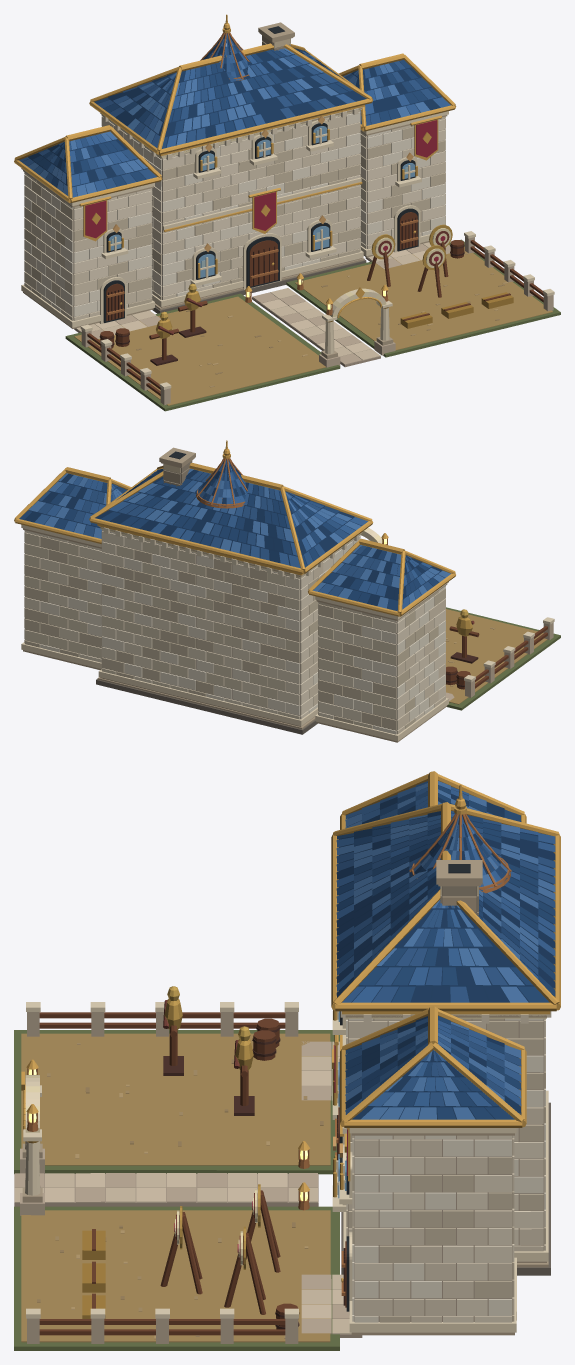
The model's file is barracks-nivel-9.glb.
3 renders of one model, top to bottom at view 1: azimuth 30°, elevation 25°; view 2: azimuth 150°, elevation 25°; view 3: azimuth 270°, elevation 25°, orthographic. The views are drawn at different scales.
Parts seen in each view (by area): view 1: Academia da Coroa #ad8f5a, Academia da Coroa #e8dcc5, Academia da Coroa #ded1b9, Academia da Coroa #eae1ce, Academia da Coroa #d5a452, Academia da Coroa #e6d7ba, Academia da Coroa #cec1a8, Academia da Coroa #1b385b, Academia da Coroa #70432c, Academia da Coroa #4670a0, Academia da Coroa #234771, Academia da Coroa #2e5481 (+16 smaller); view 2: Academia da Coroa #ded1b9, Academia da Coroa #e8dcc5, Academia da Coroa #cec1a8, Academia da Coroa #eae1ce, Academia da Coroa #1b385b, Academia da Coroa #d5a452, Academia da Coroa #4670a0, Academia da Coroa #234771, Academia da Coroa #355f90, Academia da Coroa #e6d7ba, Academia da Coroa #2e5481, Academia da Coroa #b3a390 (+7 smaller); view 3: Academia da Coroa #ad8f5a, Academia da Coroa #d5a452, Academia da Coroa #1b385b, Academia da Coroa #234771, Academia da Coroa #ded1b9, Academia da Coroa #4670a0, Academia da Coroa #68744a, Academia da Coroa #70432c, Academia da Coroa #2e5481, Academia da Coroa #e8dcc5, Academia da Coroa #eae1ce, Academia da Coroa #c1af99 (+15 smaller).
Boxes of the visible parts, x1=… form: Academia da Coroa #ad8f5a: x1=74, y1=245, x2=552, y2=405; Academia da Coroa #e8dcc5: x1=24, y1=116, x2=445, y2=316; Academia da Coroa #ded1b9: x1=24, y1=108, x2=445, y2=320; Academia da Coroa #eae1ce: x1=24, y1=111, x2=445, y2=316; Academia da Coroa #d5a452: x1=14, y1=14, x2=456, y2=322; Academia da Coroa #e6d7ba: x1=21, y1=107, x2=554, y2=389; Academia da Coroa #cec1a8: x1=24, y1=110, x2=445, y2=307; Academia da Coroa #1b385b: x1=22, y1=35, x2=441, y2=196; Academia da Coroa #70432c: x1=87, y1=212, x2=543, y2=395; Academia da Coroa #4670a0: x1=28, y1=38, x2=430, y2=196; Academia da Coroa #234771: x1=33, y1=34, x2=441, y2=187; Academia da Coroa #2e5481: x1=38, y1=34, x2=436, y2=188; Academia da Coroa #ded1b9: x1=24, y1=527, x2=445, y2=734; Academia da Coroa #e8dcc5: x1=24, y1=530, x2=445, y2=721; Academia da Coroa #cec1a8: x1=24, y1=531, x2=445, y2=730; Academia da Coroa #eae1ce: x1=24, y1=529, x2=445, y2=734; Academia da Coroa #1b385b: x1=24, y1=463, x2=444, y2=608; Academia da Coroa #d5a452: x1=14, y1=440, x2=455, y2=616; Academia da Coroa #4670a0: x1=28, y1=460, x2=450, y2=608; Academia da Coroa #234771: x1=19, y1=459, x2=438, y2=611; Academia da Coroa #355f90: x1=34, y1=459, x2=431, y2=609; Academia da Coroa #e6d7ba: x1=21, y1=524, x2=554, y2=741; Academia da Coroa #2e5481: x1=38, y1=461, x2=432, y2=596; Academia da Coroa #b3a390: x1=25, y1=532, x2=397, y2=733; Academia da Coroa #ad8f5a: x1=21, y1=1033, x2=330, y2=1342; Academia da Coroa #d5a452: x1=21, y1=771, x2=560, y2=1282; Academia da Coroa #1b385b: x1=336, y1=785, x2=555, y2=1119; Academia da Coroa #234771: x1=336, y1=785, x2=555, y2=1119; Academia da Coroa #ded1b9: x1=340, y1=1011, x2=551, y2=1322; Academia da Coroa #4670a0: x1=336, y1=781, x2=555, y2=1119; Academia da Coroa #68744a: x1=14, y1=1030, x2=339, y2=1350; Academia da Coroa #70432c: x1=39, y1=1012, x2=346, y2=1335; Academia da Coroa #2e5481: x1=336, y1=781, x2=555, y2=1106; Academia da Coroa #e8dcc5: x1=346, y1=1019, x2=545, y2=1322; Academia da Coroa #eae1ce: x1=346, y1=1018, x2=545, y2=1322; Academia da Coroa #c1af99: x1=14, y1=1012, x2=349, y2=1343.
Size of the model in its own units: 13.45 by 8.08 by 9.82.
